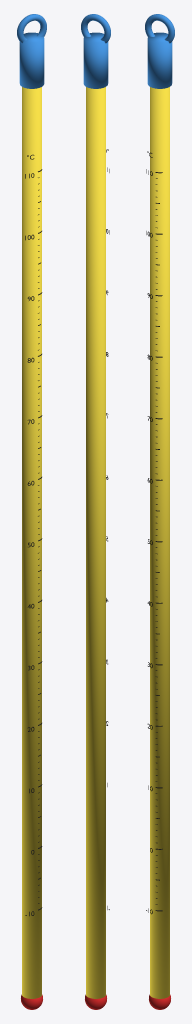
Rendered from Termometro.glb.
The picture shows the model from 3 angles, left to right: view 1: azimuth 30°, elevation 25°; view 2: azimuth 150°, elevation 25°; view 3: azimuth 330°, elevation 25°; orthographic projection.
Visible parts, largest first — view 1: Cristal_Cuerpo, Tapa_Superior, Anillo_Tapa, Bulbo_Liquido; view 2: Cristal_Cuerpo, Tapa_Superior, Anillo_Tapa, Bulbo_Liquido; view 3: Cristal_Cuerpo, Tapa_Superior, Anillo_Tapa, Bulbo_Liquido.
Boxes of the visible parts, left/top/right/bottom form: Cristal_Cuerpo: left=22, top=87, right=41, bottom=998; Tapa_Superior: left=19, top=32, right=44, bottom=88; Anillo_Tapa: left=17, top=14, right=46, bottom=43; Bulbo_Liquido: left=21, top=994, right=42, bottom=1009; Cristal_Cuerpo: left=86, top=87, right=105, bottom=998; Tapa_Superior: left=83, top=32, right=108, bottom=88; Anillo_Tapa: left=81, top=14, right=110, bottom=43; Bulbo_Liquido: left=85, top=994, right=106, bottom=1009; Cristal_Cuerpo: left=150, top=87, right=169, bottom=998; Tapa_Superior: left=147, top=32, right=172, bottom=88; Anillo_Tapa: left=145, top=14, right=174, bottom=43; Bulbo_Liquido: left=149, top=994, right=170, bottom=1009.
Size of the model in its own units: 0.1 by 3.23 by 0.072.
